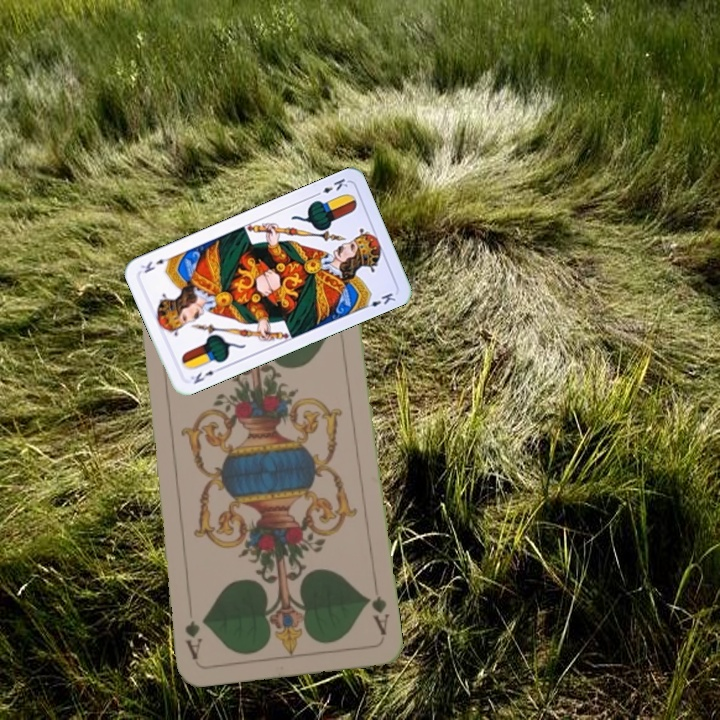EK: (310, 174, 350, 199), (187, 363, 224, 387)
GA: (362, 581, 392, 638)
